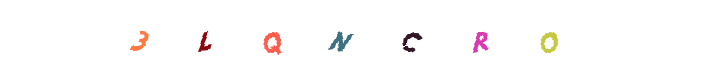3: (182, 0, 262, 80)
C: (322, 0, 402, 80)
L: (285, 0, 365, 80)
N: (307, 0, 387, 80)
O: (509, 0, 589, 80)
Q: (307, 0, 387, 80)
R: (440, 0, 520, 80)
